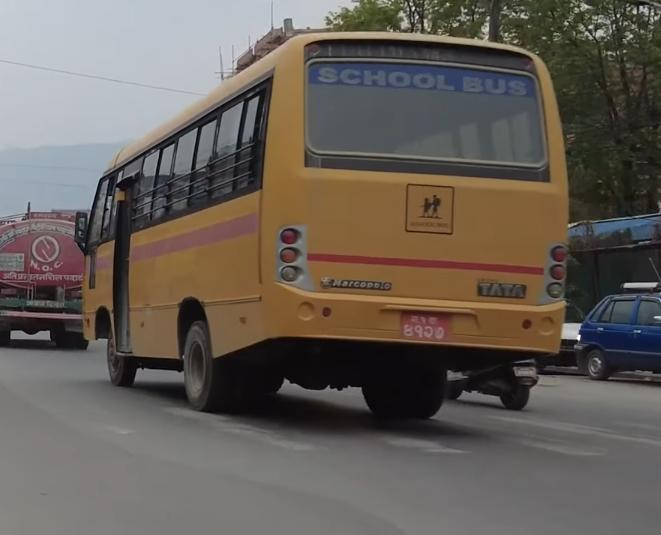school_bus: (75, 28, 575, 430)
taxi: (582, 277, 661, 387)
